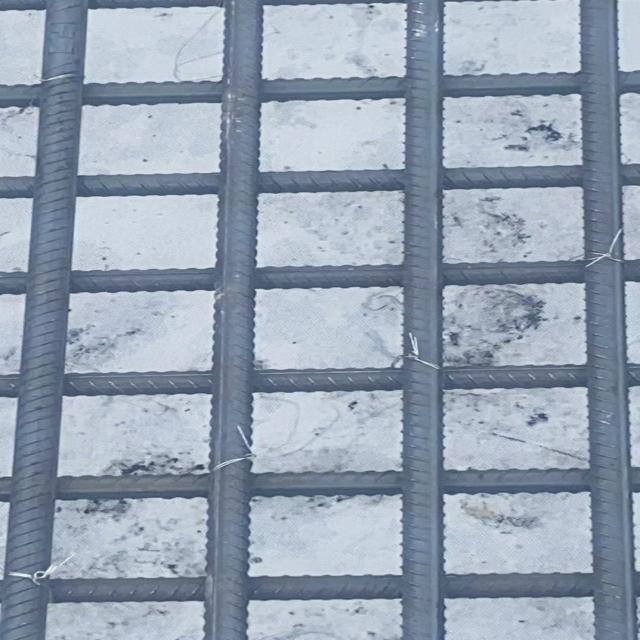ribbed bar: (0, 0, 90, 639), (200, 2, 265, 640), (575, 0, 639, 639), (400, 2, 446, 640), (0, 70, 639, 110), (0, 362, 639, 400), (0, 465, 639, 503), (0, 259, 639, 296), (0, 163, 639, 199), (50, 572, 592, 604)
